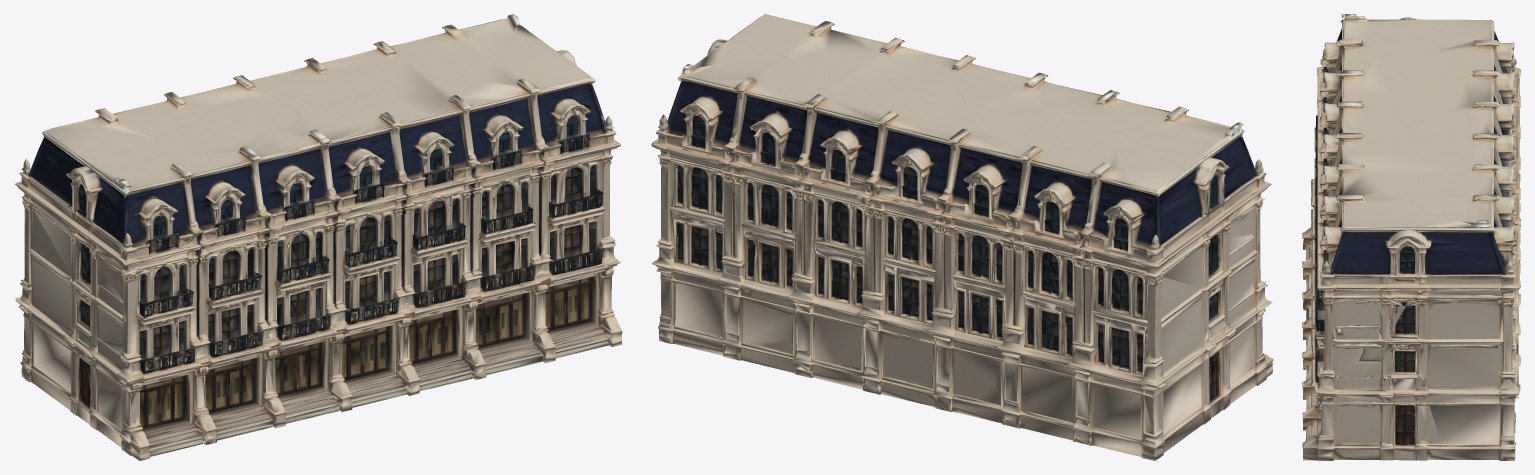
File: shophouse.glb
3 renders of one model, left to right at view 1: azimuth 30°, elevation 25°; view 2: azimuth 150°, elevation 25°; view 3: azimuth 270°, elevation 25°, orthographic. The views are drawn at different scales.
Visible parts, largest first — view 1: world; view 2: world; view 3: world.
Part boxes in pixels (x1,y1,x2,y2): world: [14, 14, 622, 460]; world: [651, 14, 1273, 460]; world: [1302, 14, 1520, 460].
Bounding box in the file's own units: 35.97 × 17.99 × 15.09.
1 material, 1 textured.
